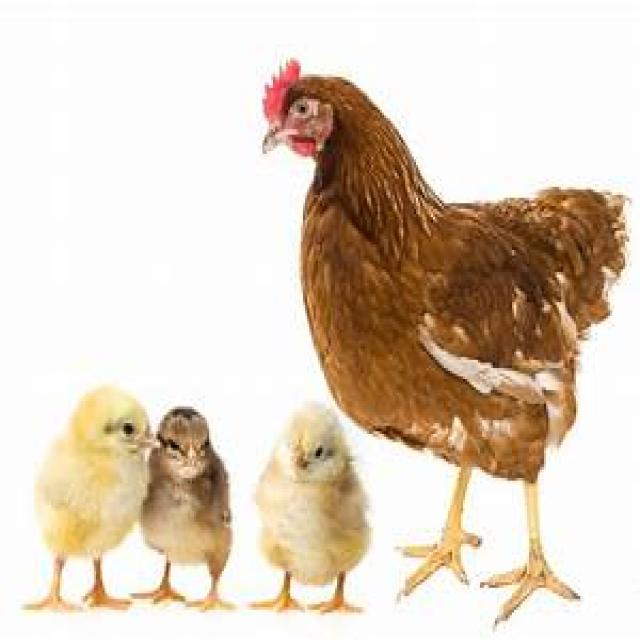hen: (264, 61, 624, 619)
